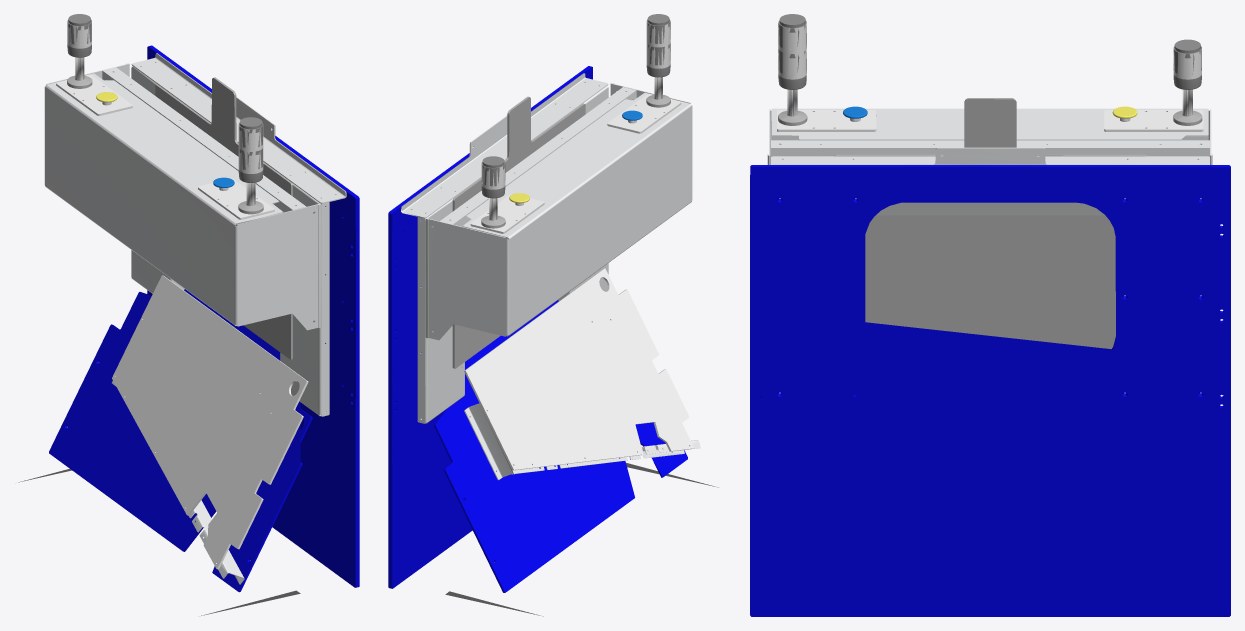
Rendered from BlueAmp.fbx.
3 views of the same model, side by side, from view 1: azimuth 30°, elevation 25°; view 2: azimuth 150°, elevation 25°; view 3: azimuth 270°, elevation 25° (orthographic). The views are drawn at different scales.
Parts seen in each view (by area): view 1: GE-24116, GE-24122, GE-24115, GE-24121, GE-24108-01, GE-24110-01.002, GE-24111, GE-24103-02, GE-24127, GE-24110-01.003, GE-24127.001, GE-24124 (+5 smaller); view 2: GE-24116, GE-24122, GE-24121, GE-24115, GE-24108-01, GE-24110-01.003, GE-24111, GE-24103-02, GE-24125, GE-24127.001, GE-24127, GE-24124 (+6 smaller); view 3: GE-24115, GE-24111, GE-24116, GE-24103-02, GE-24108-01, GE-24112, GE-24127, GE-24127.001, 855T-MPB10 Light.001, 855T-MPB10 Light.002, 855T-MPB10 Stand, 855T-MPB10 Stand.001 (+1 smaller).
Part boxes in pixels (left/top/right/bottom): GE-24116: left=44, top=63, right=321, bottom=330; GE-24122: left=112, top=275, right=308, bottom=569; GE-24115: left=147, top=45, right=359, bottom=587; GE-24121: left=49, top=289, right=312, bottom=592; GE-24108-01: left=131, top=53, right=346, bottom=203; GE-24110-01.002: left=280, top=183, right=329, bottom=416; GE-24111: left=155, top=77, right=292, bottom=359; GE-24103-02: left=102, top=67, right=306, bottom=212; GE-24127: left=56, top=74, right=132, bottom=115; GE-24110-01.003: left=131, top=66, right=184, bottom=293; GE-24127.001: left=198, top=178, right=274, bottom=219; GE-24124: left=189, top=500, right=244, bottom=584; GE-24116: left=425, top=83, right=692, bottom=340; GE-24122: left=464, top=268, right=693, bottom=470; GE-24121: left=434, top=300, right=687, bottom=592; GE-24115: left=388, top=66, right=592, bottom=588; GE-24108-01: left=401, top=73, right=608, bottom=218; GE-24110-01.003: left=417, top=199, right=464, bottom=423; GE-24111: left=452, top=96, right=585, bottom=368; GE-24103-02: left=440, top=87, right=636, bottom=226; GE-24125: left=464, top=403, right=517, bottom=480; GE-24127.001: left=607, top=94, right=681, bottom=133; GE-24127: left=470, top=194, right=544, bottom=233; GE-24124: left=512, top=440, right=700, bottom=474; GE-24115: left=750, top=165, right=1230, bottom=616; GE-24111: left=834, top=98, right=1146, bottom=348; GE-24116: left=767, top=108, right=1212, bottom=164; GE-24103-02: left=771, top=140, right=1209, bottom=156; GE-24108-01: left=771, top=147, right=1209, bottom=164; GE-24112: left=876, top=202, right=1104, bottom=215; GE-24127: left=1104, top=110, right=1203, bottom=131; GE-24127.001: left=777, top=110, right=876, bottom=131; 855T-MPB10 Light.001: left=1173, top=39, right=1201, bottom=79; 855T-MPB10 Light.002: left=778, top=14, right=806, bottom=53; 855T-MPB10 Stand: left=778, top=74, right=807, bottom=125; 855T-MPB10 Stand.001: left=1173, top=75, right=1202, bottom=125.
Size of the model in its own units: 48.58 by 147 by 117.
